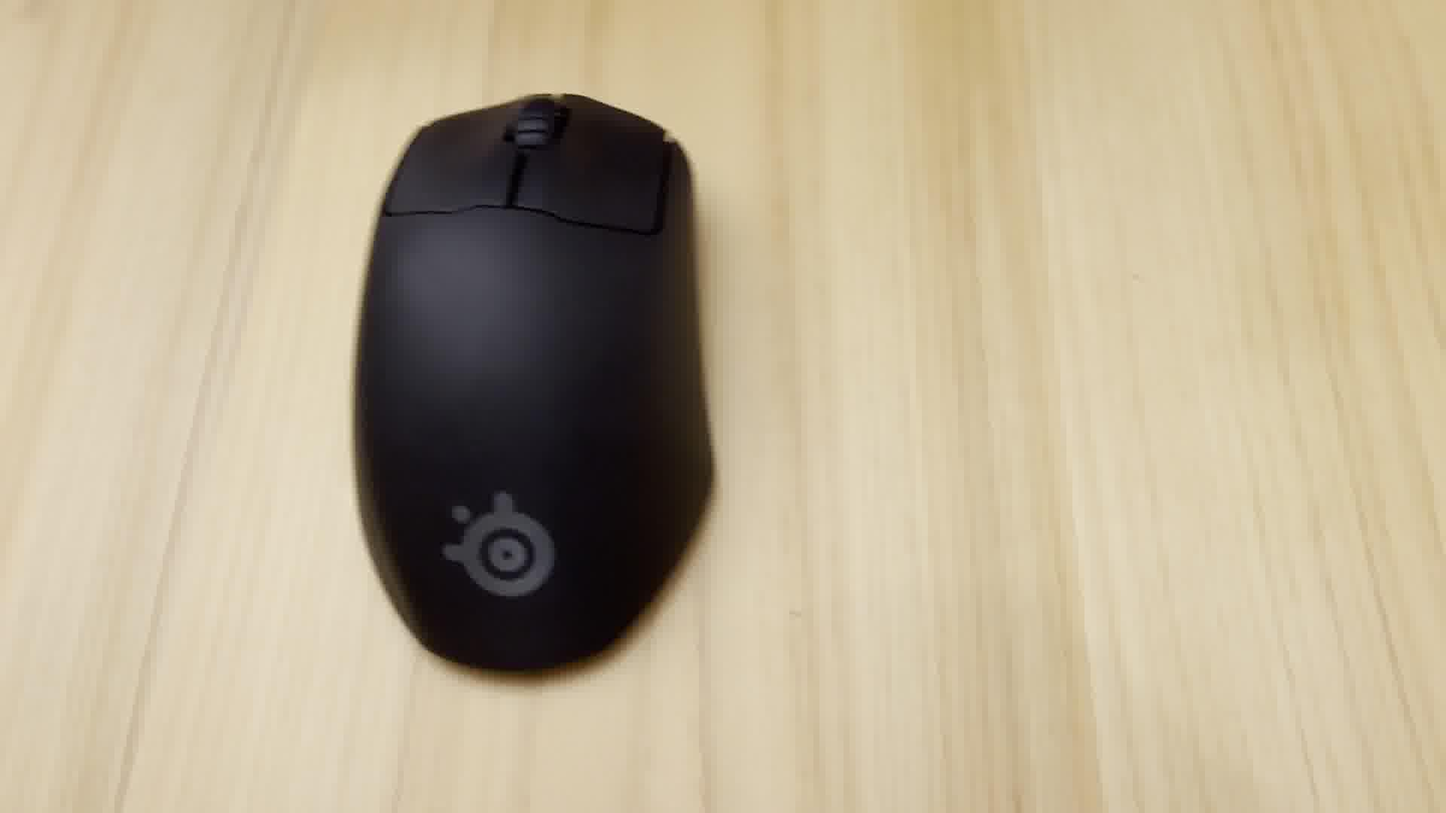steel-series: (341, 78, 722, 694)
